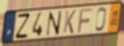0: (95, 7, 108, 33)
4: (31, 11, 44, 38)
F: (77, 7, 94, 35)
K: (62, 9, 77, 34)
N: (45, 10, 63, 38)
Z: (15, 13, 31, 41)
